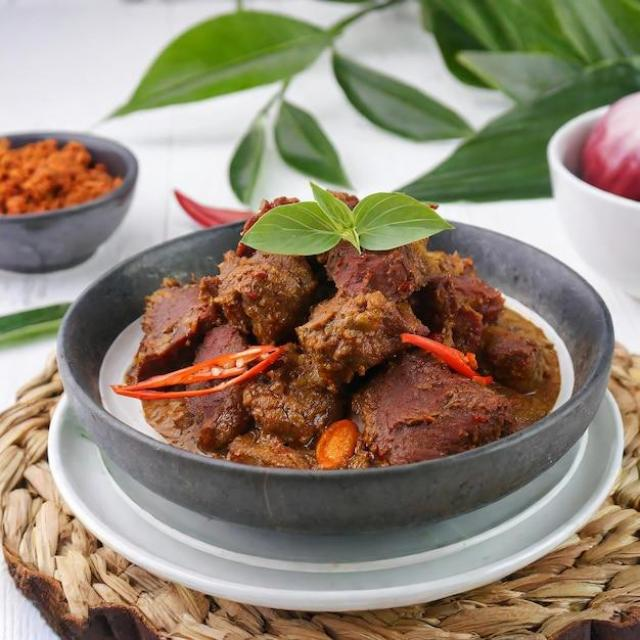Rendang: (113, 186, 571, 486)
